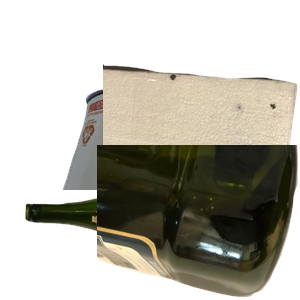glass: (23, 186, 249, 300)
metal: (60, 82, 300, 262)
plastic: (97, 145, 300, 300)
trash: (103, 62, 300, 242)
